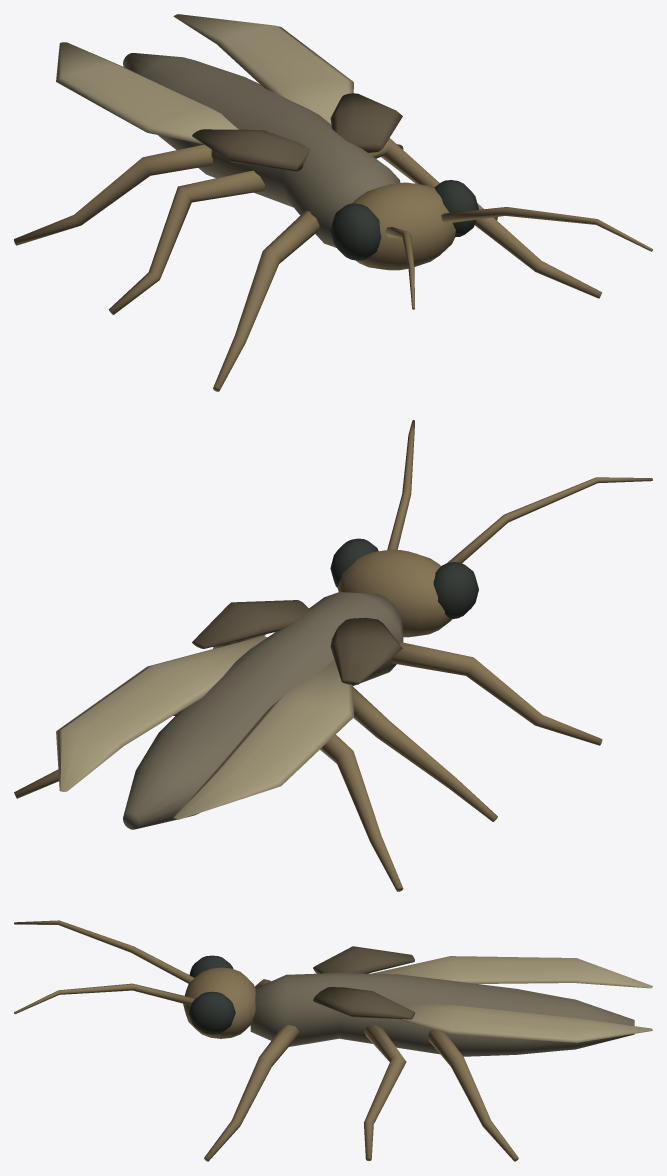
File: alienopterus.glb
3 renders of one model, top to bottom at view 1: azimuth 30°, elevation 25°; view 2: azimuth 150°, elevation 25°; view 3: azimuth 270°, elevation 25°, orthographic. The views are drawn at different scales.
Visible parts, largest first — view 1: long-hindwings-and-short-forewing-covers, tapered-segmented-body, six-articulated-legs, head-eyes-antennae; view 2: long-hindwings-and-short-forewing-covers, tapered-segmented-body, head-eyes-antennae, six-articulated-legs; view 3: tapered-segmented-body, long-hindwings-and-short-forewing-covers, head-eyes-antennae, six-articulated-legs.
Part boxes in pixels (x1,y1,x2,y2): long-hindwings-and-short-forewing-covers: [56, 14, 402, 171]; tapered-segmented-body: [123, 53, 400, 247]; six-articulated-legs: [14, 138, 602, 391]; head-eyes-antennae: [330, 180, 652, 309]; long-hindwings-and-short-forewing-covers: [56, 600, 402, 819]; tapered-segmented-body: [123, 592, 403, 829]; head-eyes-antennae: [330, 420, 652, 637]; six-articulated-legs: [14, 634, 602, 891]; tapered-segmented-body: [250, 973, 634, 1056]; long-hindwings-and-short-forewing-covers: [313, 946, 652, 1042]; head-eyes-antennae: [14, 920, 255, 1038]; six-articulated-legs: [204, 979, 518, 1161].
Bounding box in the file's own units: 0.0117 × 0.005 × 0.0216.
